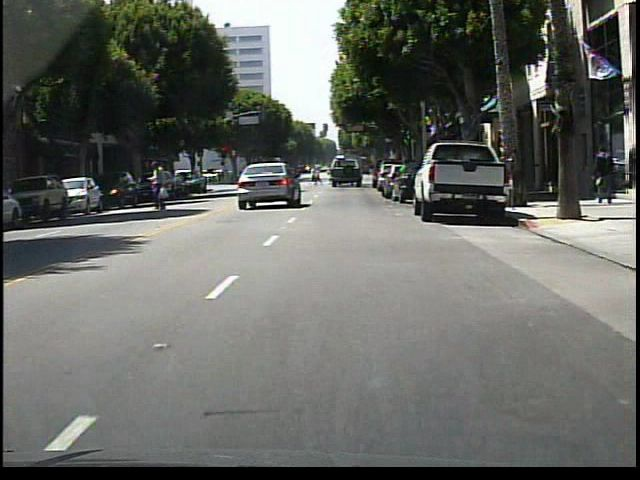person: (589, 143, 616, 204), (152, 157, 171, 211), (312, 165, 324, 186)
